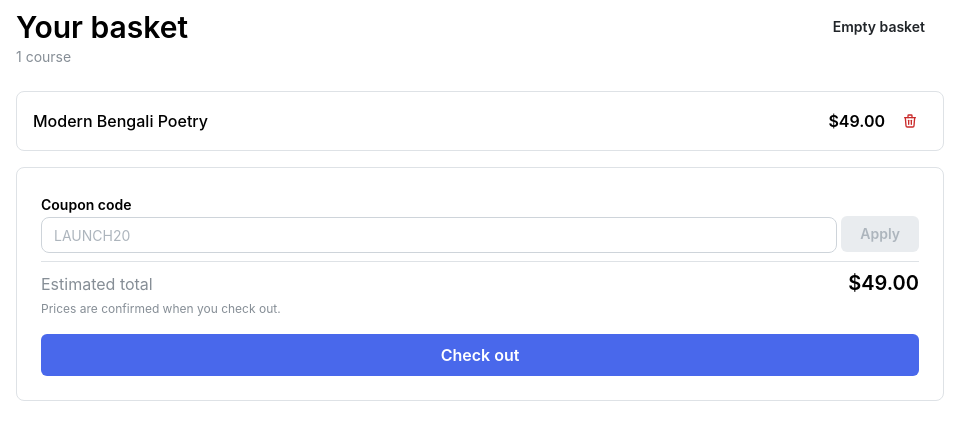
Scenario: CartRoute › applies a coupon and shows the discount the server computed
In the field labelled "Coupon code": (439, 235) [41,217,837,253], type "launch20"
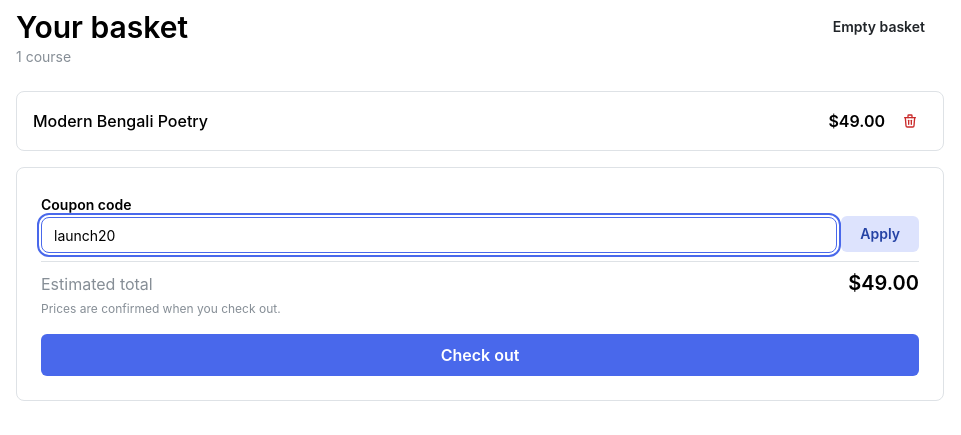
Click the button "Apply": (880, 234) [841,216,919,252]
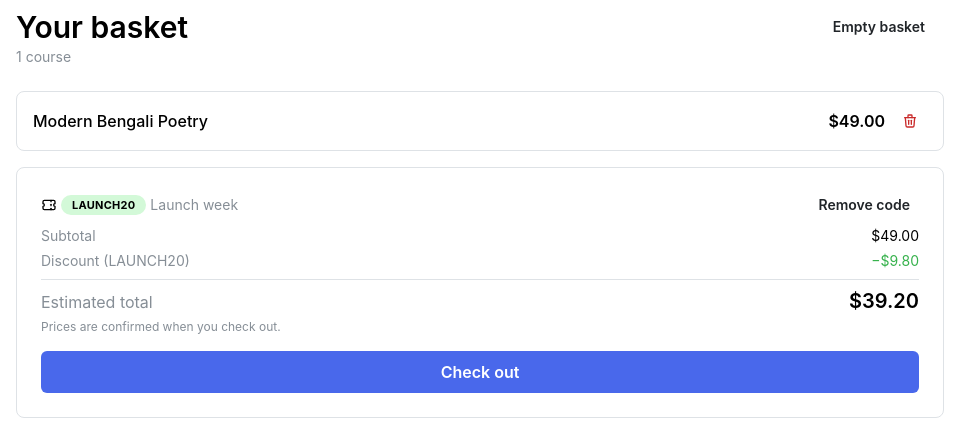
Expected: the text "LAUNCH20" is shown, [72,196,135,214]
Expected: the text "−$9.80" is shown, [871,251,919,271]
Expected: the heading "$39.20" is shown, [849,288,919,314]
